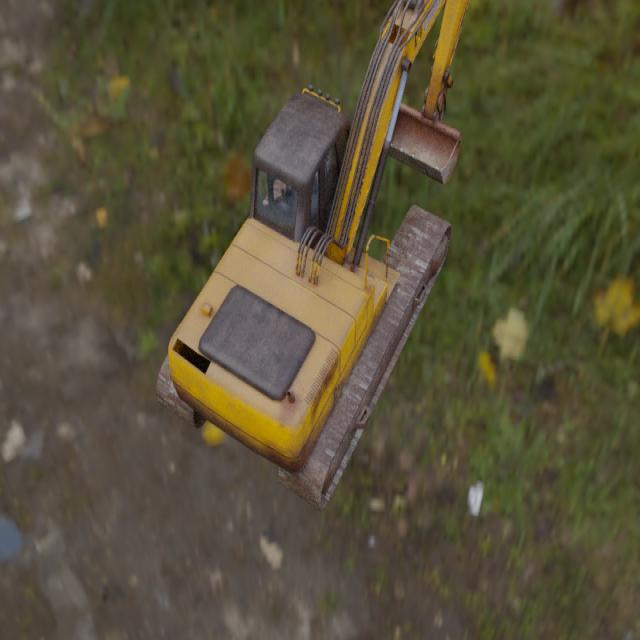excavator: (155, 0, 468, 512)
